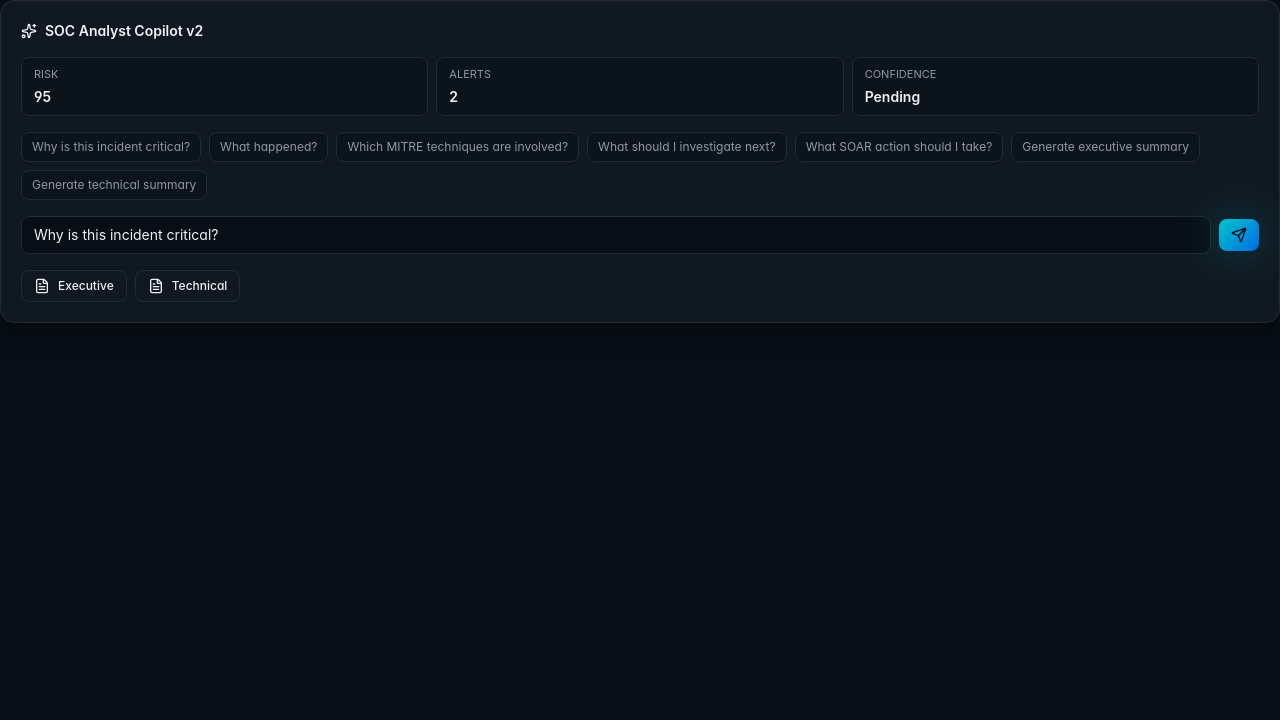
Test: AI copilot panels › renders Copilot v2 answers for incidents
Expected: the text "SOC Analyst Copilot v2" is shown, [21, 22, 203, 39]
Click the button named "ask copilot v2". click: point(1239, 234)
box: [1219, 218, 1259, 250]
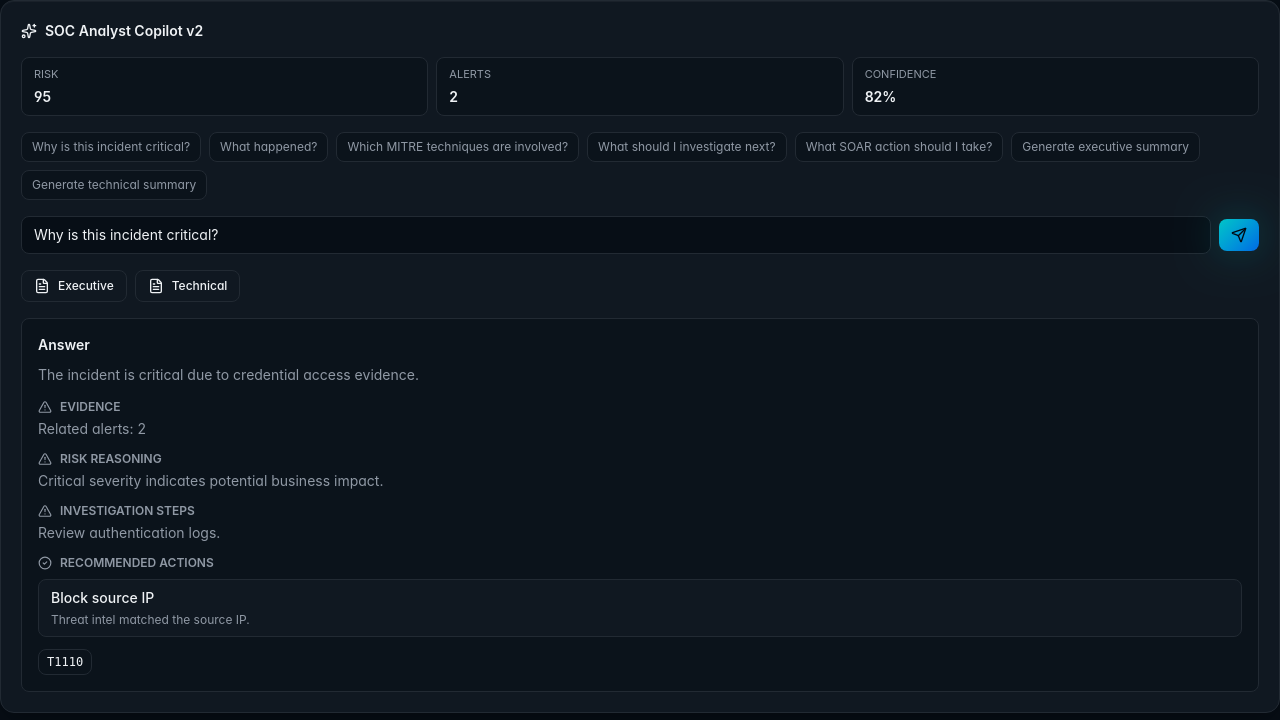
Result: the text "The incident is critical due to credential access evidence." is shown at [38, 366, 419, 382]
Result: the text "Block source IP" is shown at [51, 588, 154, 606]
